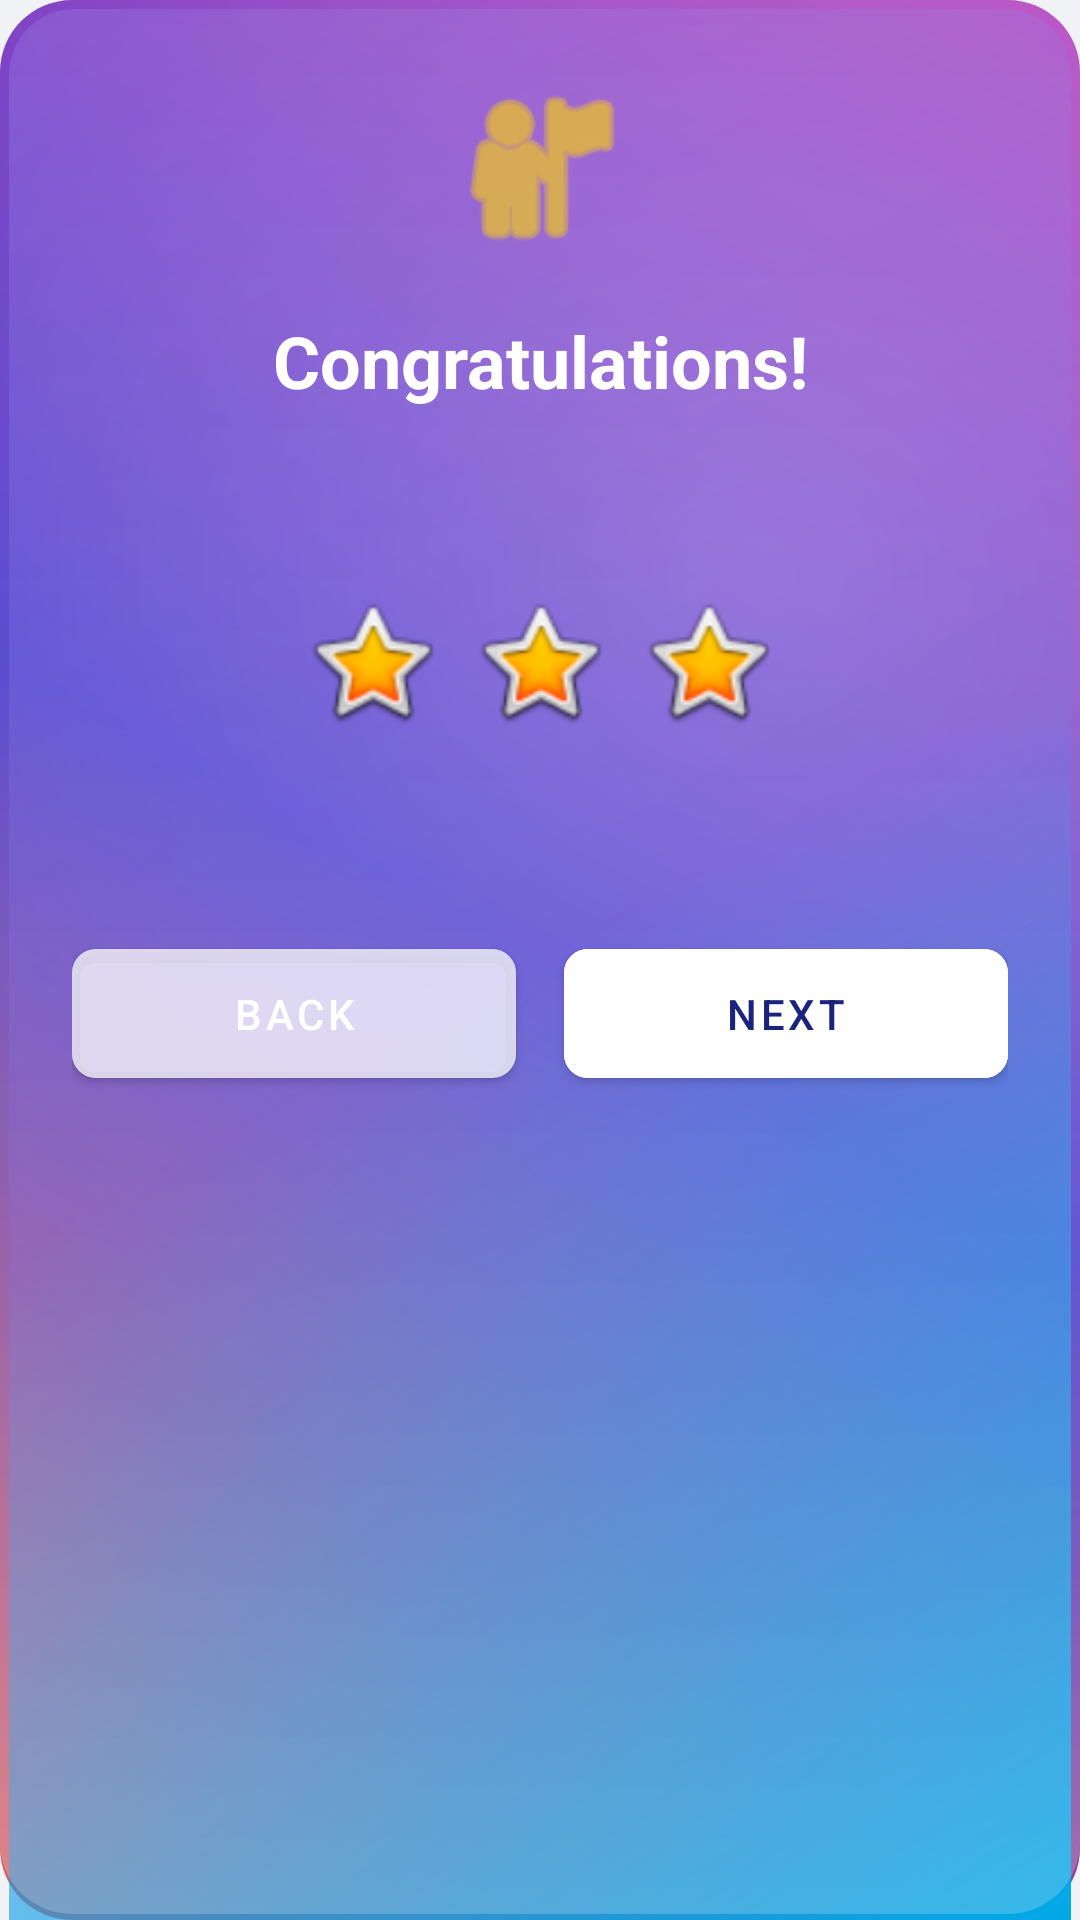

Icons on this 1080px x 1920px Android screen, each with its box as (x1,y1,x2,y2):
First star: (313,605,433,722)
Second star: (481,605,601,722)
Third star: (649,605,769,722)
